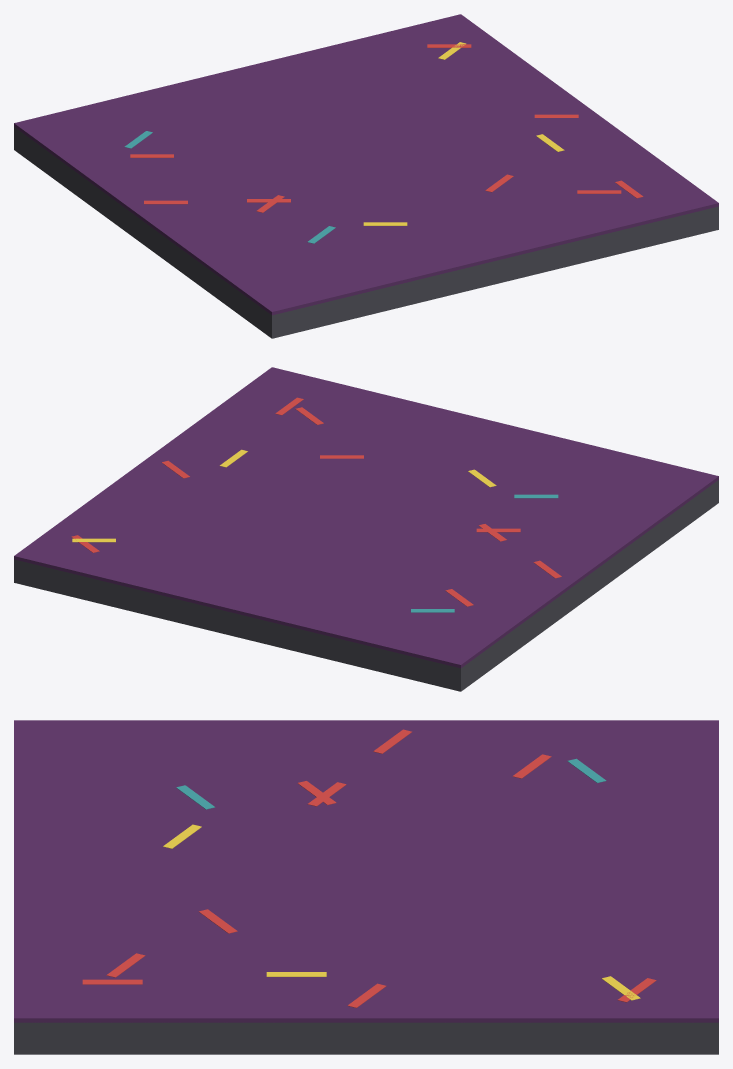
The model's file is floor_mp_carpet.glb.
3 renders of one model, top to bottom at view 1: azimuth 30°, elevation 25°; view 2: azimuth 150°, elevation 25°; view 3: azimuth 270°, elevation 25°, orthographic. The views are drawn at different scales.
Parts seen in each view (by area): view 1: floor_mp_carpet; view 2: floor_mp_carpet; view 3: floor_mp_carpet.
Boxes of the visible parts, x1,y1,x2,y2 form: floor_mp_carpet: (14,14,718,338); floor_mp_carpet: (14,367,718,691); floor_mp_carpet: (14,720,718,1054).
Size of the model in its own units: 4 by 0.2315 by 4.
